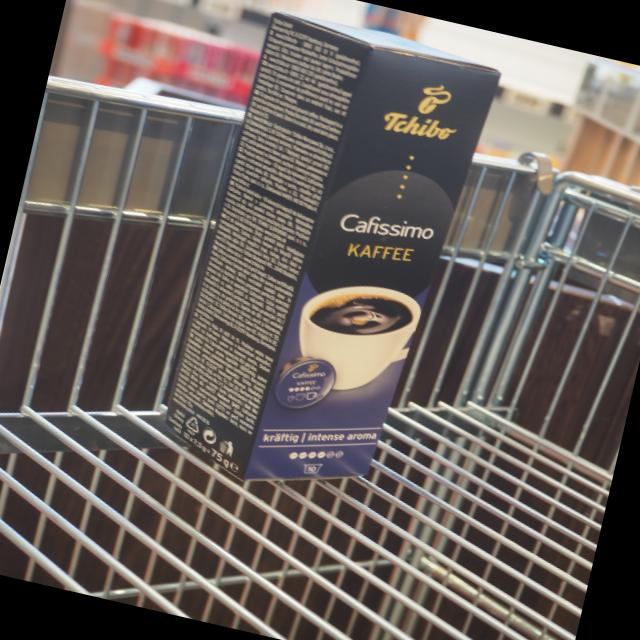Simo Kaffee Kraft: (240, 44, 504, 484)
